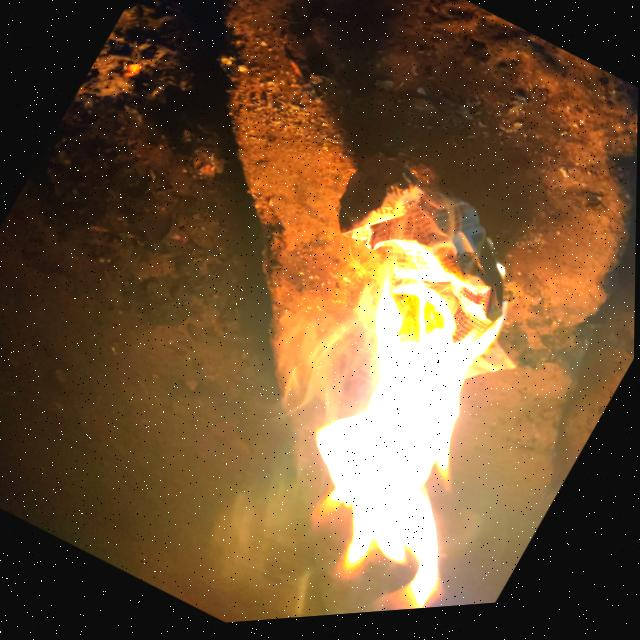Fire: (226, 222, 592, 626)
